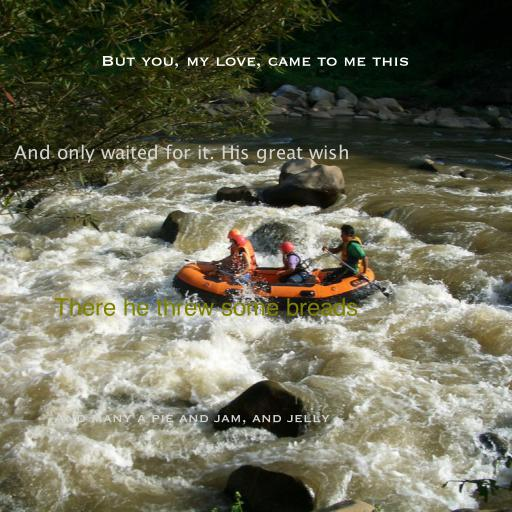Copperplate: (101, 55, 409, 69), (54, 413, 330, 425)
Helvetica: (54, 298, 358, 316)
Lucida Grande: (14, 144, 350, 163)
